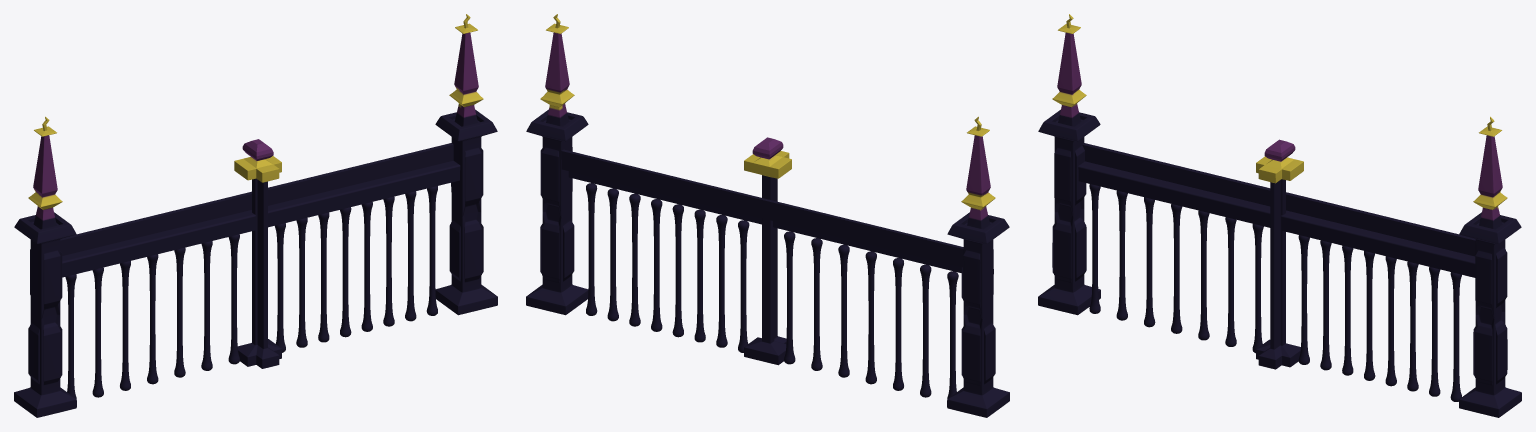
Rendered from Obstacle0.fbx.
The picture shows the model from 3 angles, left to right: view 1: azimuth 30°, elevation 25°; view 2: azimuth 150°, elevation 25°; view 3: azimuth 330°, elevation 25°; orthographic projection.
Parts seen in each view (by area): view 1: Obstacle0; view 2: Obstacle0; view 3: Obstacle0.
Boxes of the visible parts, <box> form: Obstacle0: <box>14,14,497,417</box>; Obstacle0: <box>526,14,1009,417</box>; Obstacle0: <box>1038,14,1521,417</box>.
Size of the model in its own units: 171 by 104 by 16.34.
